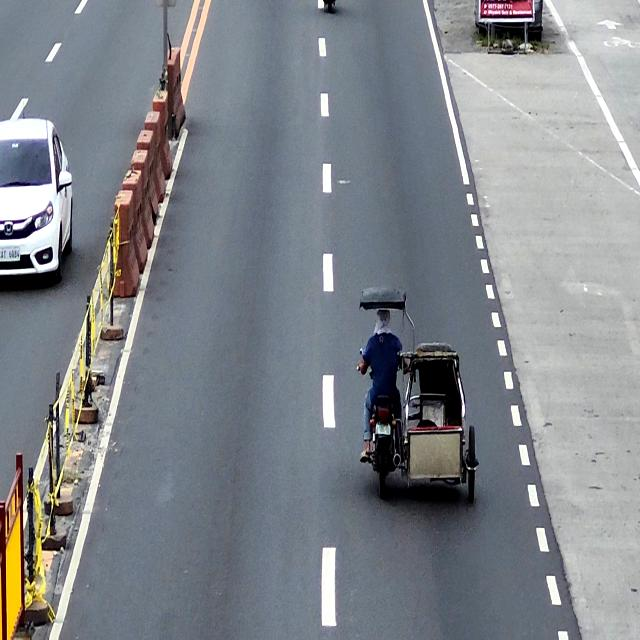Car: (0, 117, 74, 277)
License-Plate: (0, 246, 21, 261), (374, 422, 391, 435)
Tricycle: (359, 285, 478, 503)
